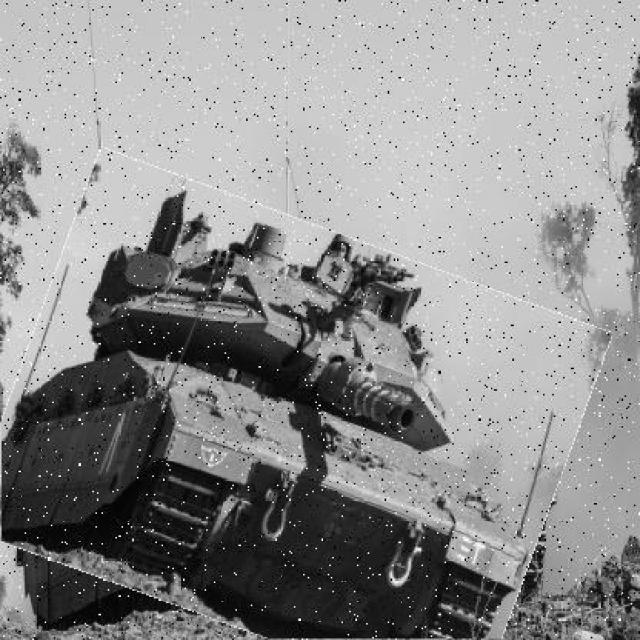Tank: (3, 187, 589, 640)
